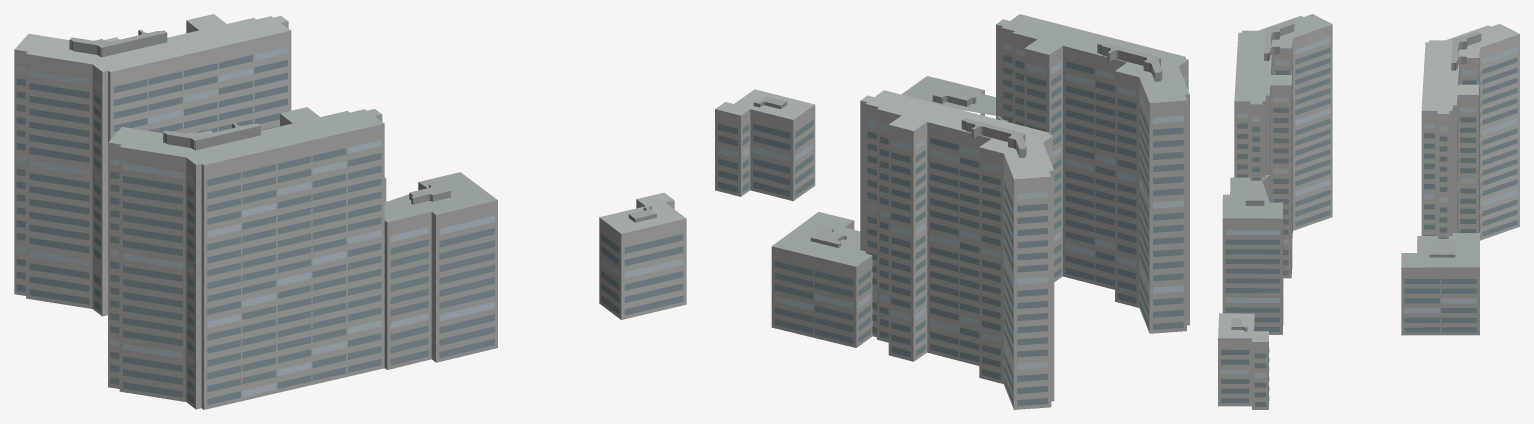
The model's file is apt-a10027195.glb.
3 renders of one model, left to right at view 1: azimuth 30°, elevation 25°; view 2: azimuth 150°, elevation 25°; view 3: azimuth 270°, elevation 25°, orthographic. The views are drawn at different scales.
Parts seen in each view (by area): view 1: apt-a10027195; view 2: apt-a10027195; view 3: apt-a10027195.
Part boxes in pixels (bbox=[...]): apt-a10027195: bbox=[14, 14, 686, 409]; apt-a10027195: bbox=[715, 14, 1189, 409]; apt-a10027195: bbox=[1218, 14, 1519, 409].
Bounding box in the file's own units: 137 × 63 × 85.99.
